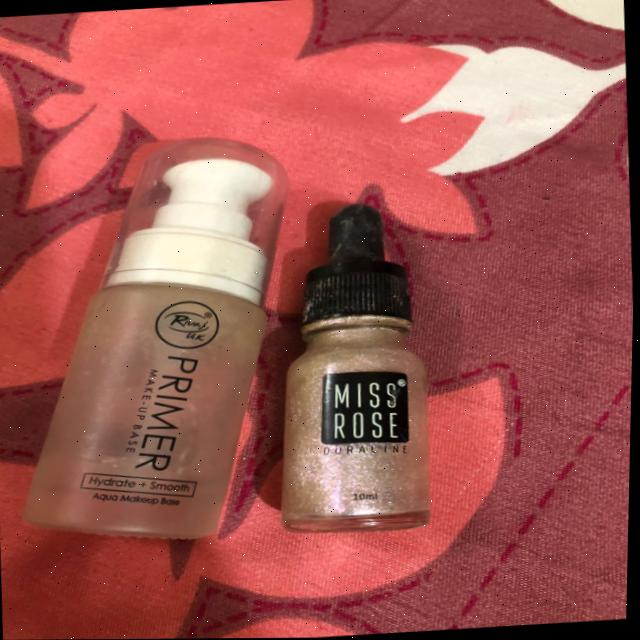primer: (5, 128, 303, 544)
serum: (252, 172, 472, 535)
